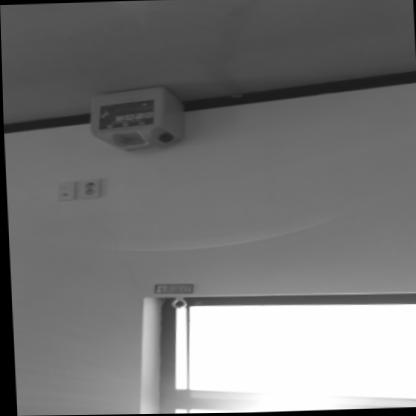DDL: (92, 85, 184, 152)
